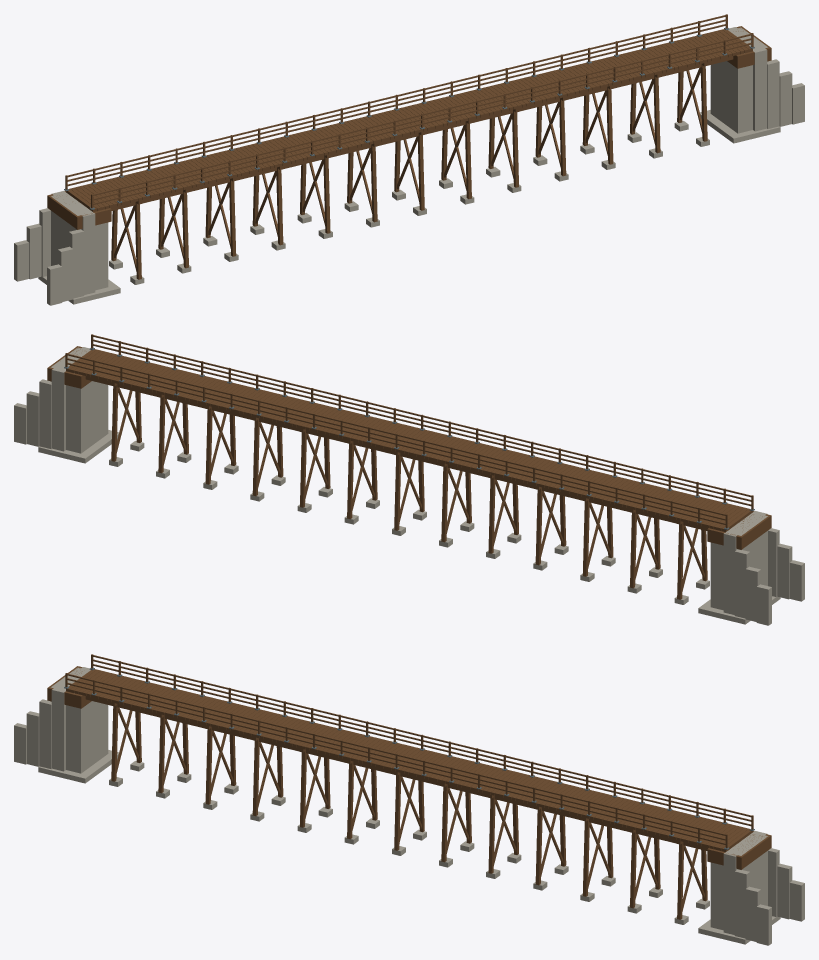
Rendered from trestle.obj.
3 renders of one model, top to bottom at view 1: azimuth 30°, elevation 25°; view 2: azimuth 150°, elevation 25°; view 3: azimuth 330°, elevation 25°, orthographic.
Visible parts, largest first — view 1: deck@timber, abutment@limestone, railing@timber, pier@timber, truss@timber, footing@limestone, girder@timber, cap@timber, connection@paintedSteel; view 2: deck@timber, abutment@limestone, railing@timber, pier@timber, truss@timber, footing@limestone, girder@timber, cap@timber, connection@paintedSteel; view 3: deck@timber, abutment@limestone, railing@timber, pier@timber, truss@timber, footing@limestone, girder@timber, cap@timber, connection@paintedSteel.
Boxes of the visible parts, x1,y1,x2,y2 form: deck@timber: [66, 29, 752, 212]; abutment@limestone: [14, 27, 804, 305]; railing@timber: [65, 14, 753, 208]; pier@timber: [111, 64, 707, 279]; truss@timber: [114, 67, 702, 271]; footing@limestone: [38, 110, 780, 304]; girder@timber: [110, 56, 733, 210]; cap@timber: [47, 26, 771, 229]; connection@paintedSteel: [64, 27, 754, 209]; deck@timber: [66, 349, 752, 532]; abutment@limestone: [14, 347, 804, 625]; railing@timber: [65, 334, 753, 528]; pier@timber: [111, 384, 707, 599]; truss@timber: [116, 387, 704, 591]; footing@limestone: [38, 430, 780, 624]; girder@timber: [85, 376, 708, 530]; cap@timber: [47, 346, 771, 549]; connection@paintedSteel: [64, 347, 754, 529]; deck@timber: [66, 669, 752, 852]; abutment@limestone: [14, 667, 804, 945]; railing@timber: [65, 654, 753, 848]; pier@timber: [111, 704, 707, 919]; truss@timber: [116, 707, 704, 911]; footing@limestone: [38, 750, 780, 944]; girder@timber: [85, 696, 708, 850]; cap@timber: [47, 666, 771, 869]; connection@paintedSteel: [64, 667, 754, 849].
Size of the model in its own units: 64.02 by 8.18 by 5.34.
